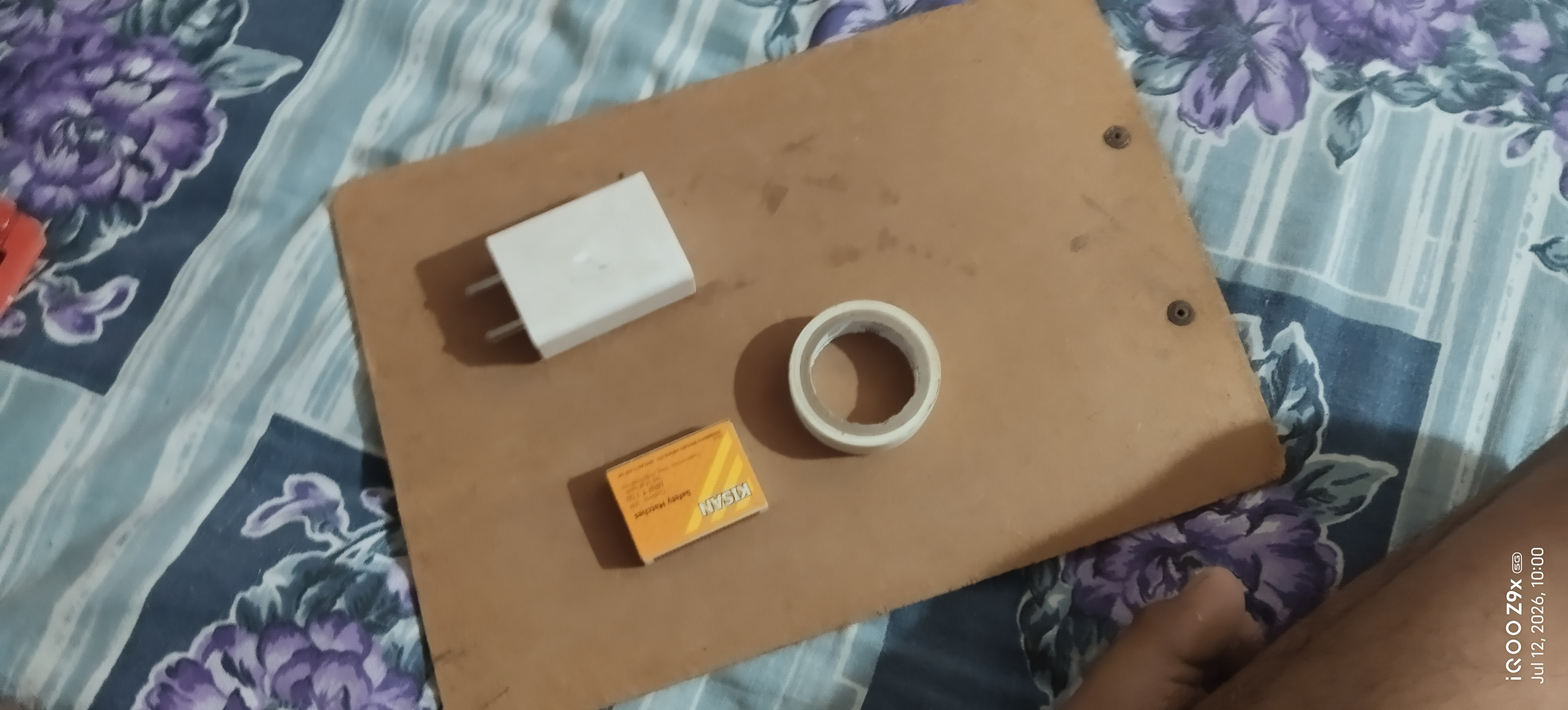charger: (431, 159, 720, 384)
matchbox: (576, 412, 786, 587)
tape_roll: (765, 275, 957, 481)
